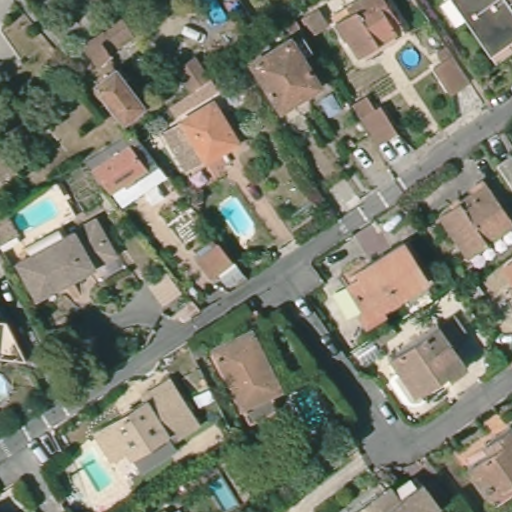pool: (213, 193, 256, 241), (9, 193, 59, 232), (80, 452, 117, 494), (399, 46, 422, 72), (207, 5, 231, 24)
